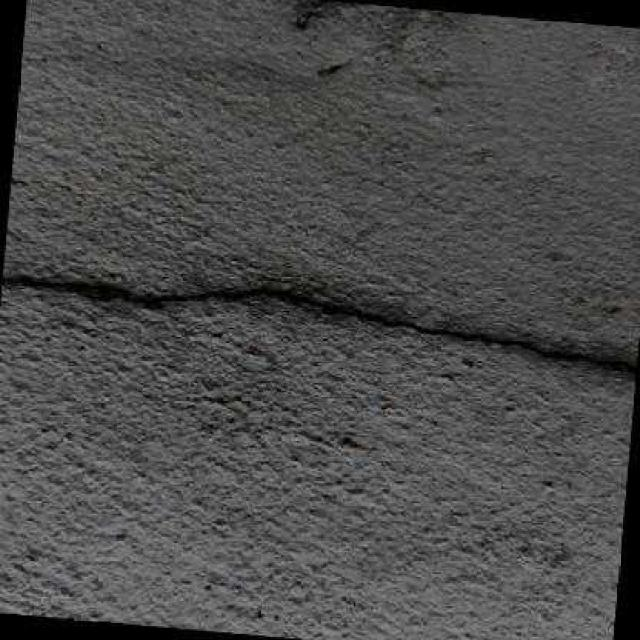D00: (2, 275, 638, 370)
